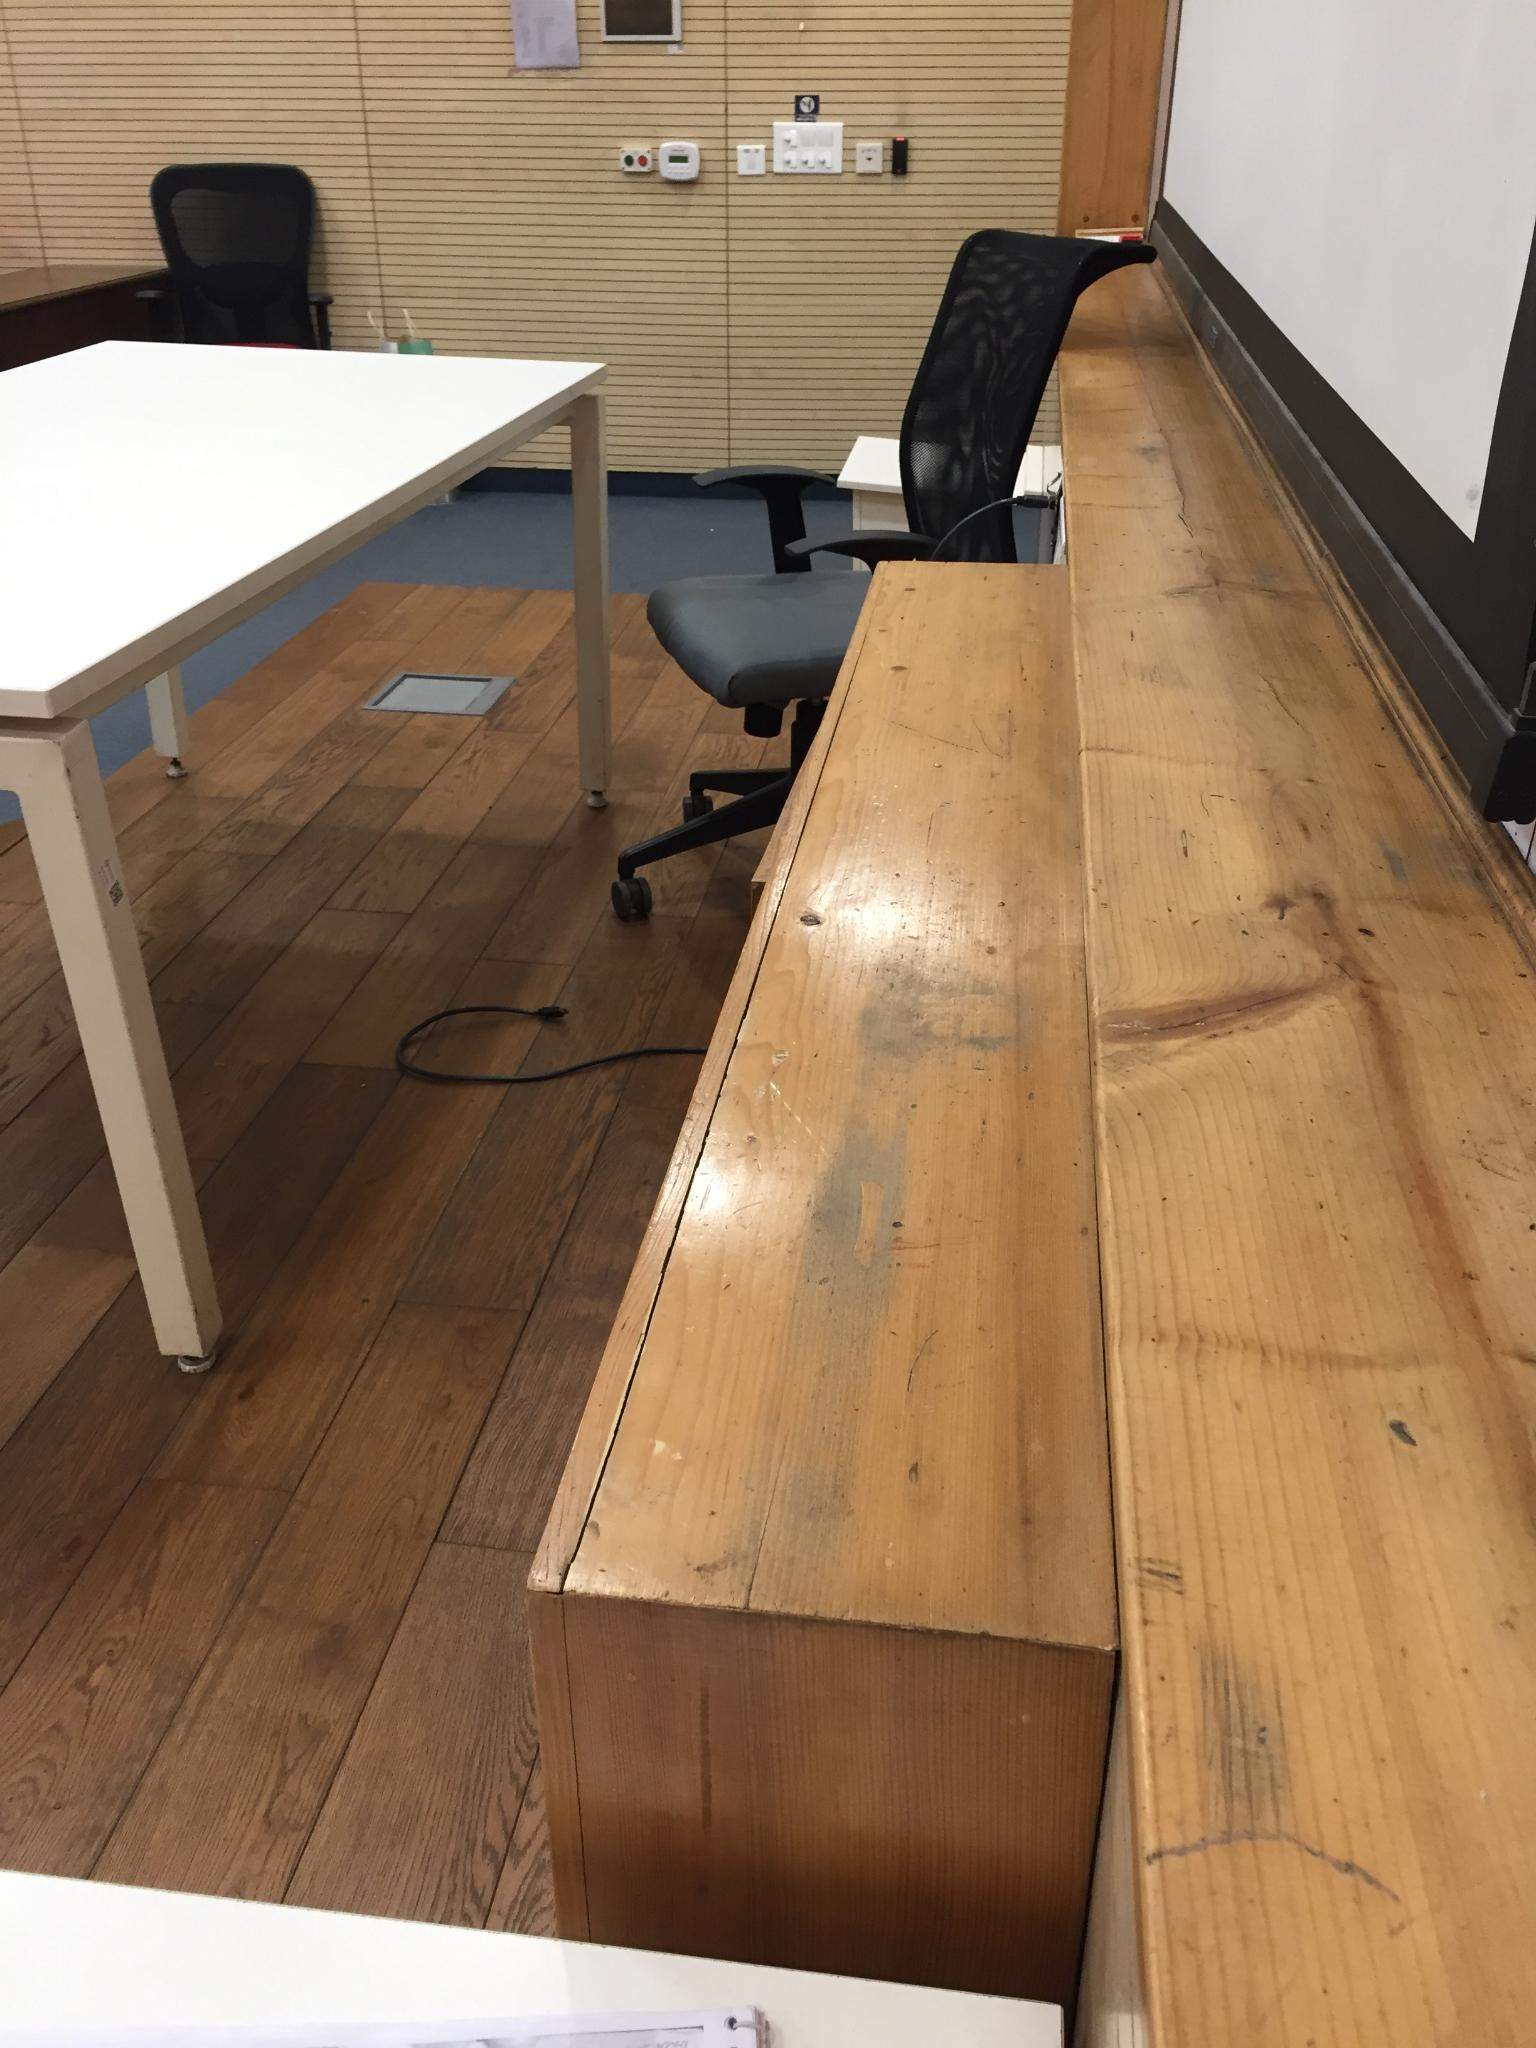chair: (608, 226, 1158, 922), (146, 160, 336, 348)
